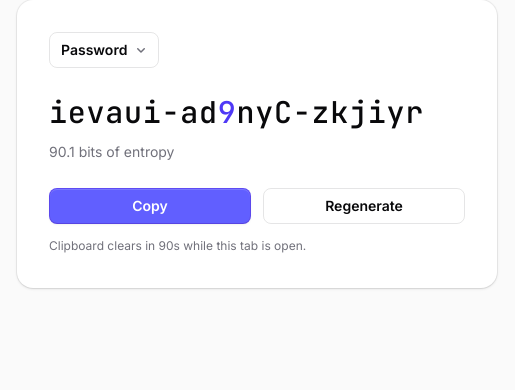
Scenario: GeneratorCard › switches format from the menu and remembers it
Click the button with aria-label "Format:".
click(104, 50)  # box [49,32,159,68]
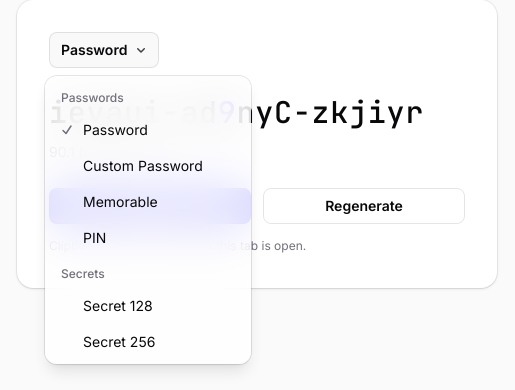
Click the menu item "Secret 256".
click(148, 342)  # box [49,324,247,360]
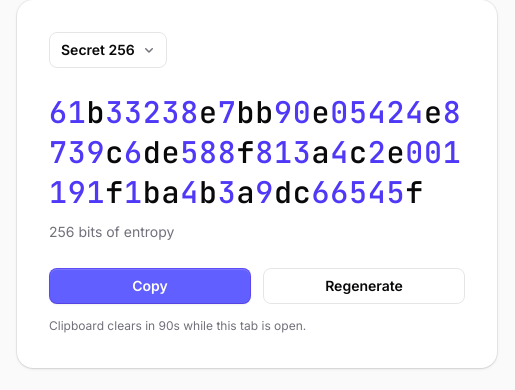
Expected: the element with test id "secret" reads "61b33238e7bb90e05424e8739c6de588f813a4c2e001191f1ba4b3a9dc66545f", [49,92,465,212]
Expected: the text "256 bits of entropy" is shown, [49,223,174,240]
